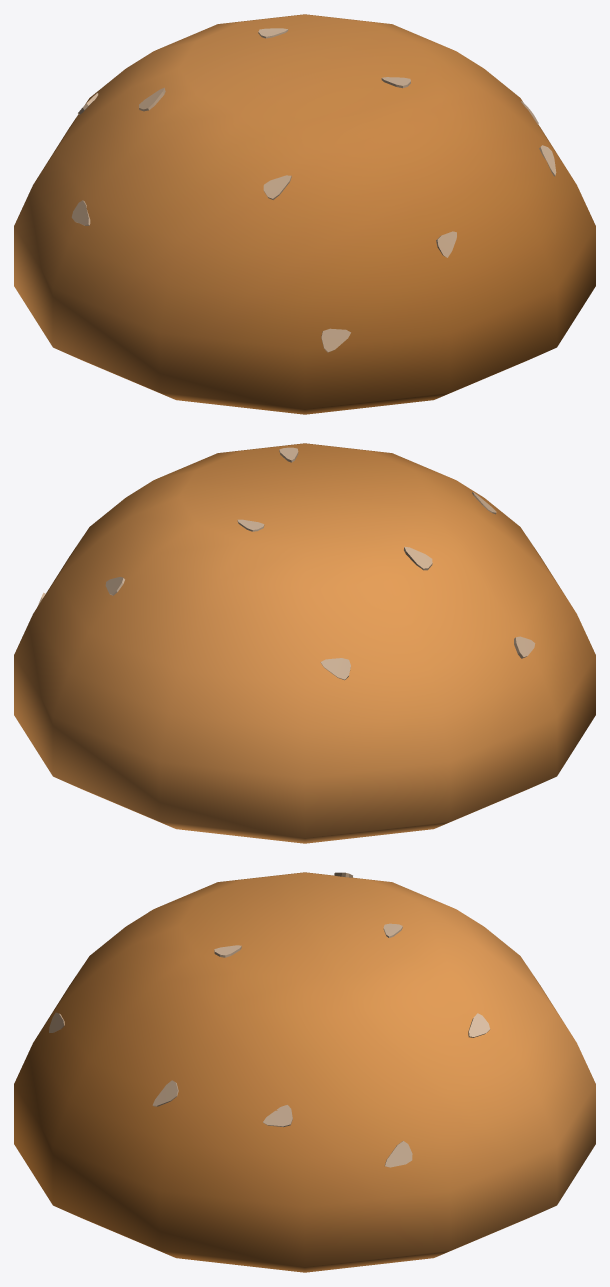
Rendered from Burger Bread_1 Half_1.fbx.
The picture shows the model from 3 angles, top to bottom: view 1: azimuth 30°, elevation 25°; view 2: azimuth 150°, elevation 25°; view 3: azimuth 270°, elevation 25°; orthographic projection.
Visible parts, largest first — view 1: Burger Bread_1 Half_1; view 2: Burger Bread_1 Half_1; view 3: Burger Bread_1 Half_1.
Boxes of the visible parts, x1,y1,x2,y2 form: Burger Bread_1 Half_1: (14, 14, 595, 414); Burger Bread_1 Half_1: (14, 443, 595, 843); Burger Bread_1 Half_1: (14, 872, 595, 1272).
Bounding box in the file's own units: 0.12 × 0.0546 × 0.12.
1 material, 1 textured.
